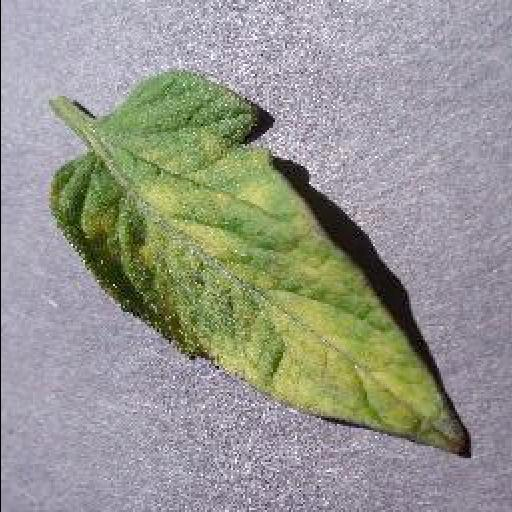disease_tomato: (52, 71, 470, 452)
